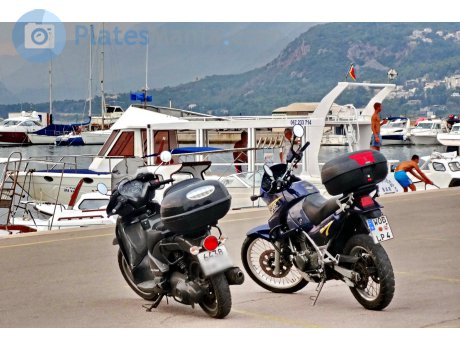License Plates: (194, 249, 227, 269), (367, 216, 397, 236)
